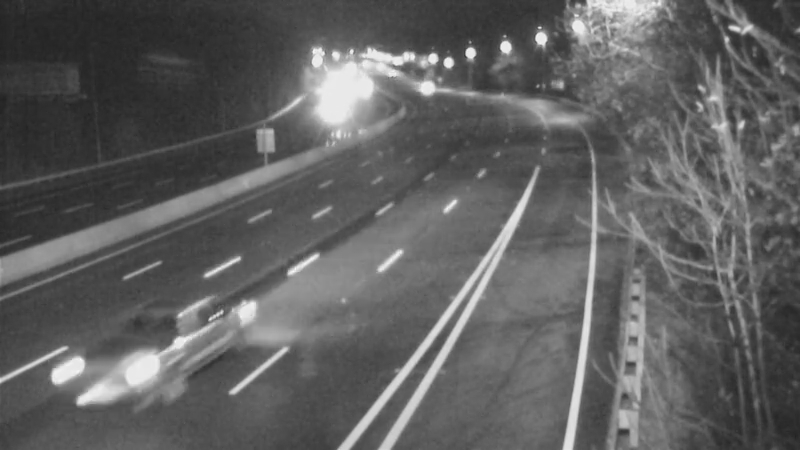vehicle: (103, 287, 213, 397), (395, 63, 445, 113), (296, 87, 346, 137)
